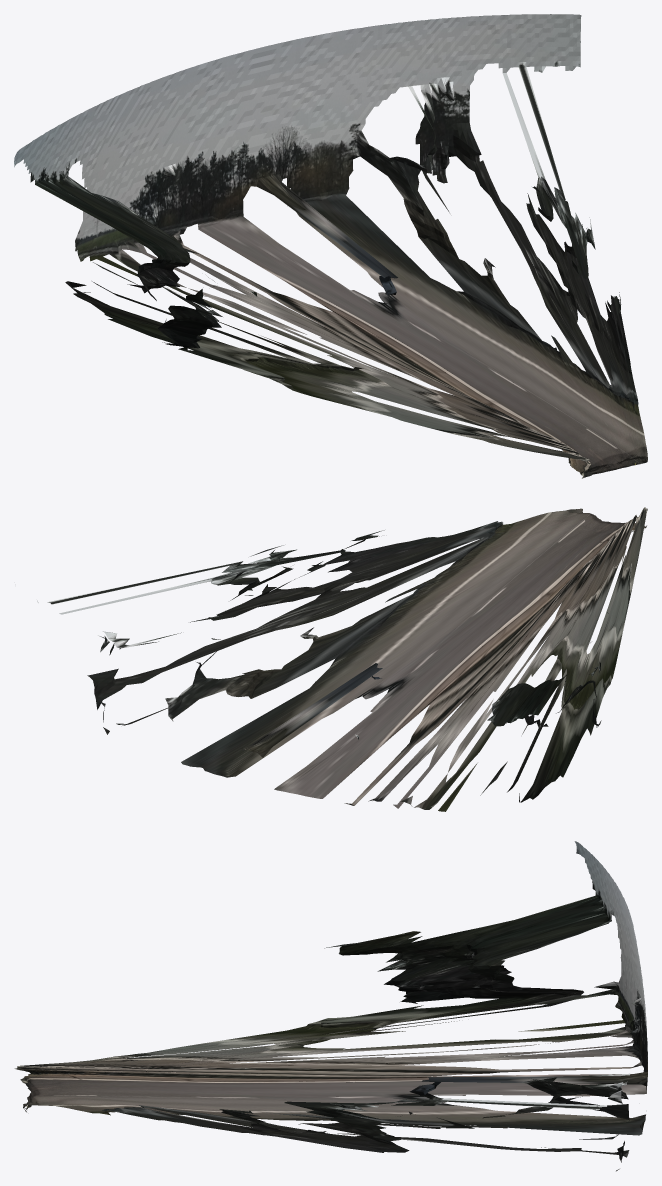
The picture shows the model from 3 angles, top to bottom: view 1: azimuth 30°, elevation 25°; view 2: azimuth 150°, elevation 25°; view 3: azimuth 270°, elevation 25°; orthographic projection. The views are drawn at different scales.
Parts seen in each view (by area): view 1: defaultobject; view 2: defaultobject; view 3: defaultobject.
Part boxes in pixels (x1,y1,x2,y2): defaultobject: (14,14,647,478); defaultobject: (37,507,647,811); defaultobject: (14,841,647,1171).
Bounding box in the file's own units: 40.78 × 12.05 × 45.09.
Materials: 1 (1 with a texture image).
